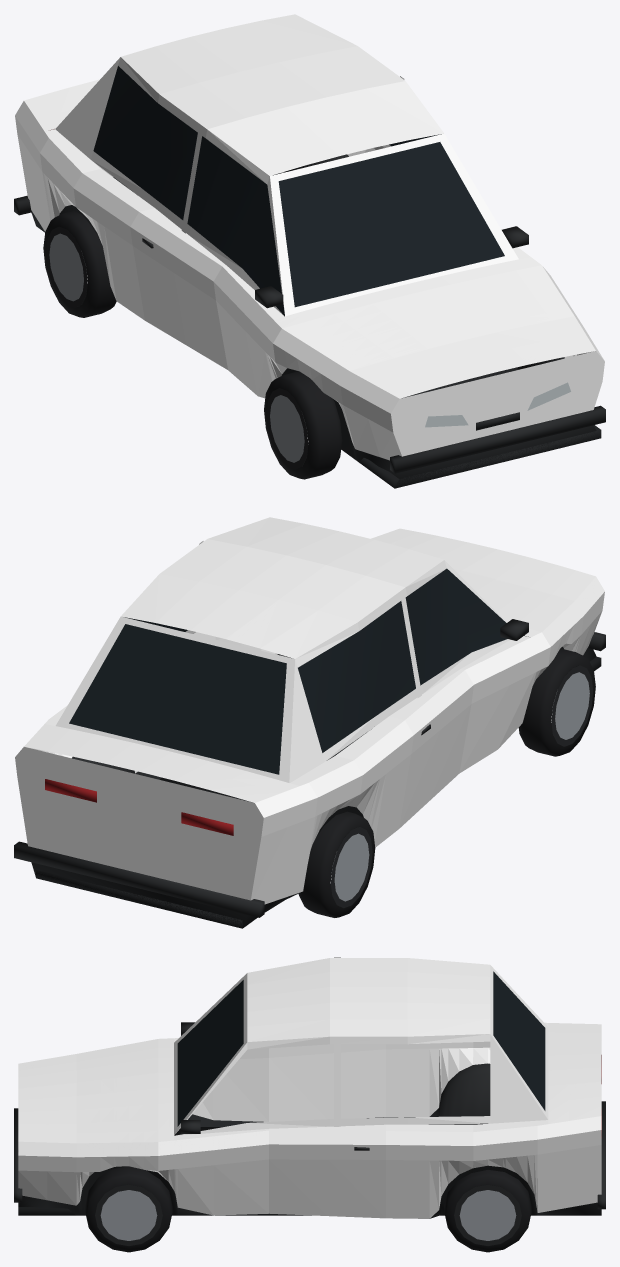
The model's file is saulieu_cogumelo.glb.
The picture shows the model from 3 angles, top to bottom: view 1: azimuth 30°, elevation 25°; view 2: azimuth 150°, elevation 25°; view 3: azimuth 270°, elevation 25°; orthographic projection. The views are drawn at different scales.
Visible parts, largest first — view 1: Body_Paint, Body_Details, Mount_FrontLeft_Wheel_Details, Mount_RearLeft_Wheel_Details; view 2: Body_Paint, Body_Details, Mount_RearLeft_Wheel_Details, Mount_FrontLeft_Wheel_Details; view 3: Body_Paint, Body_Details, Mount_FrontRight_Wheel_Details, Mount_RearRight_Wheel_Details.
Boxes of the visible parts, bbox=[...] form: Body_Paint: bbox=[15, 14, 604, 460]; Body_Details: bbox=[14, 66, 605, 488]; Mount_FrontLeft_Wheel_Details: bbox=[264, 371, 342, 479]; Mount_RearLeft_Wheel_Details: bbox=[43, 211, 116, 317]; Body_Paint: bbox=[15, 517, 604, 904]; Body_Details: bbox=[14, 568, 605, 928]; Mount_RearLeft_Wheel_Details: bbox=[298, 811, 375, 917]; Mount_FrontLeft_Wheel_Details: bbox=[518, 648, 595, 756]; Body_Paint: bbox=[18, 957, 601, 1218]; Body_Details: bbox=[14, 971, 605, 1218]; Mount_FrontRight_Wheel_Details: bbox=[85, 1166, 172, 1252]; Mount_RearRight_Wheel_Details: bbox=[444, 1170, 531, 1252].
Size of the model in its own units: 1.78 by 1.47 by 3.88.
Materials: 2 (1 with a texture image).
